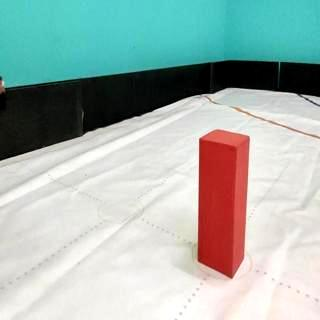redbox: (199, 128, 250, 278)
